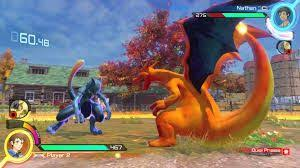charizard: (134, 1, 286, 148)
